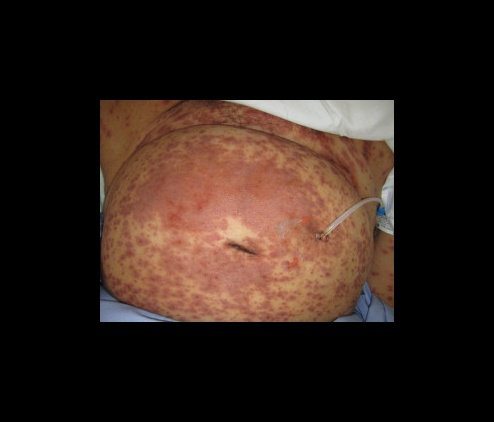SJS-TEN: (102, 79, 384, 356)
